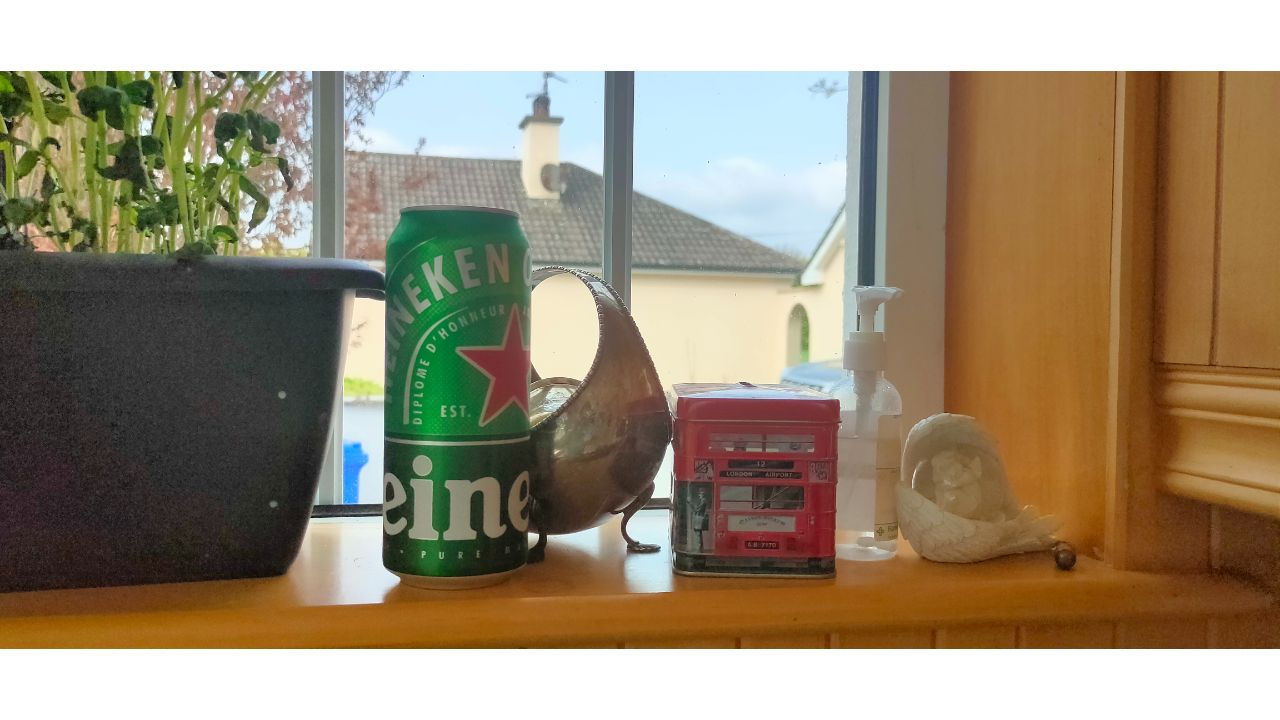Can: (383, 205, 534, 585)
